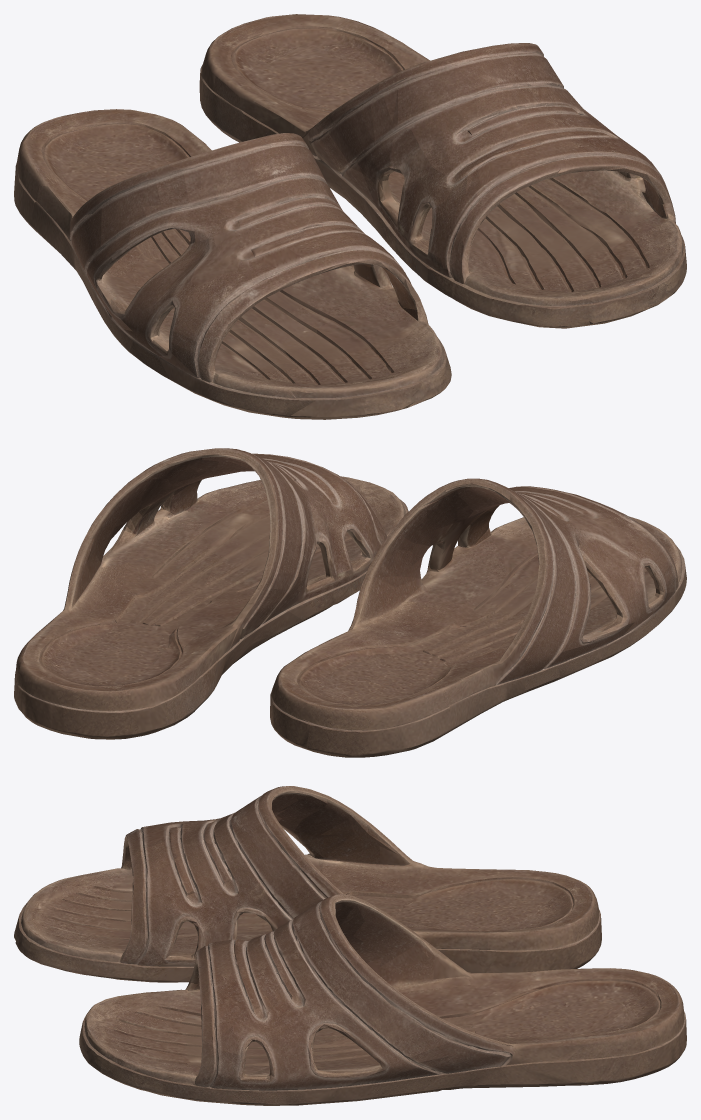
The model's file is remeshed-sandalsB.glb.
3 renders of one model, top to bottom at view 1: azimuth 30°, elevation 25°; view 2: azimuth 150°, elevation 25°; view 3: azimuth 270°, elevation 25°, orthographic. The views are drawn at different scales.
Visible parts, largest first — view 1: output_unwrapped; view 2: output_unwrapped; view 3: output_unwrapped.
Boxes of the visible parts, x1,y1,x2,y2 form: output_unwrapped: (14,14,686,419); output_unwrapped: (14,448,686,757); output_unwrapped: (14,786,686,1105).
Size of the model in its own units: 1.5 by 0.455 by 1.9.
Materials: 1 (1 with a texture image).
